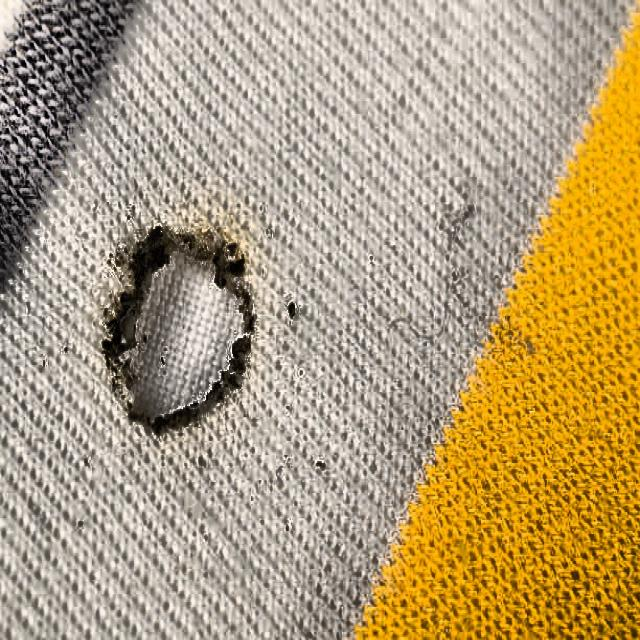Hole: (82, 196, 281, 470)
